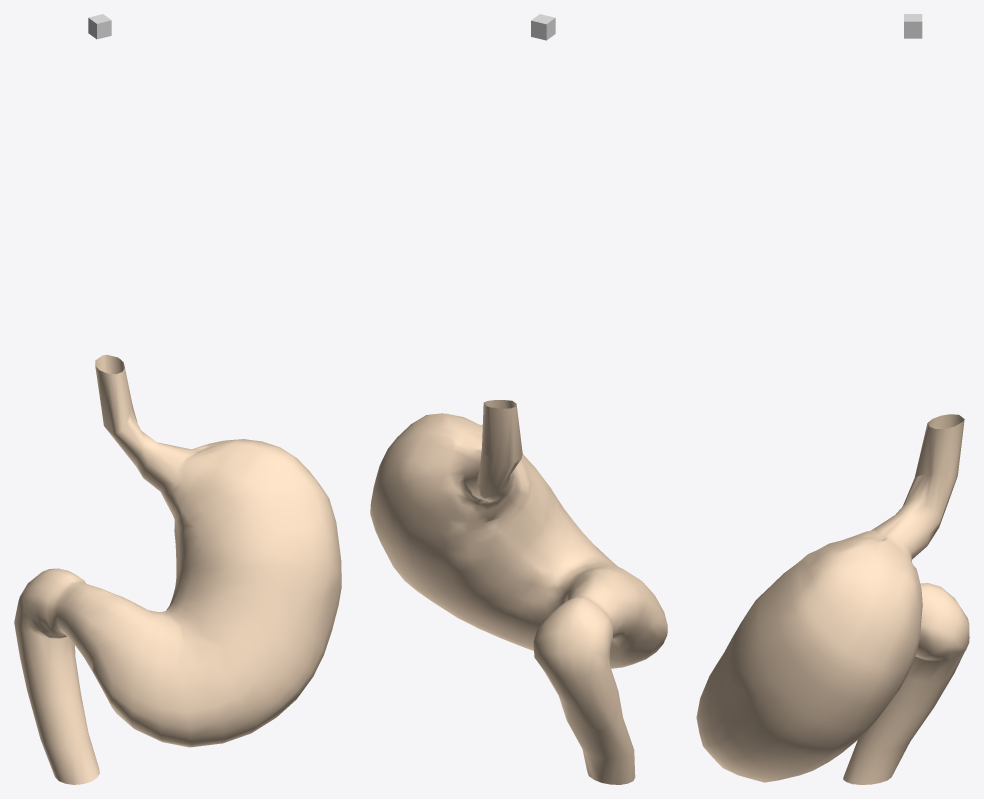
File: estomago.gltf
3 views of the same model, side by side, from view 1: azimuth 30°, elevation 25°; view 2: azimuth 150°, elevation 25°; view 3: azimuth 270°, elevation 25° (orthographic). The views are drawn at different scales.
Parts seen in each view (by area): view 1: Mesh_103; view 2: Mesh_103, Cube; view 3: Mesh_103.
Boxes of the visible parts, left/top/right/bottom form: Mesh_103: left=14, top=354, right=341, bottom=784; Mesh_103: left=370, top=400, right=667, bottom=784; Cube: left=531, top=14, right=555, bottom=40; Mesh_103: left=696, top=414, right=969, bottom=784.
Size of the model in its own units: 35.49 by 93.85 by 29.61.
